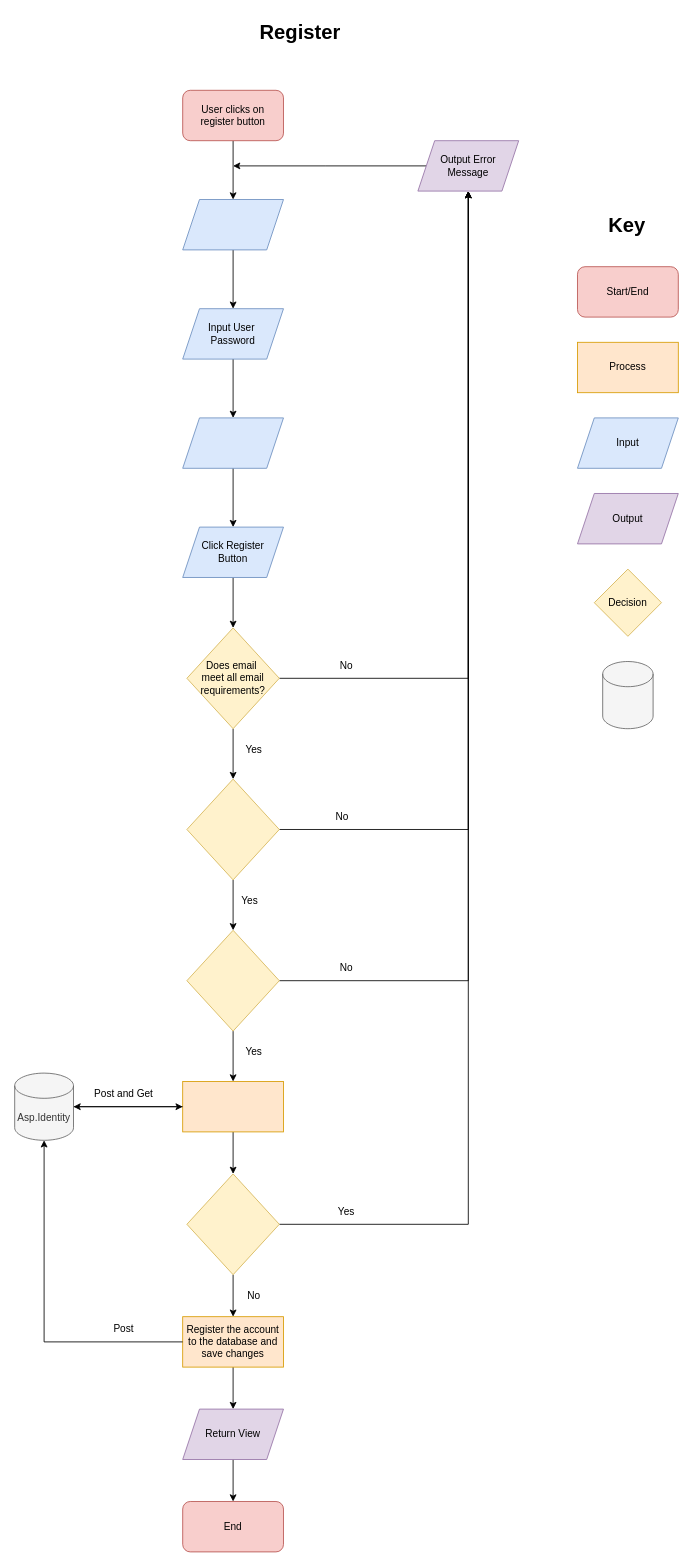
Some shapes in this 693 by 1567 pixel diagram are drawn without their labels. Each missing label, with the box of its shape:
Compare user email to all existing emails: (182, 1081, 284, 1132)
Database: (602, 661, 653, 729)
Does Email already exist?: (186, 1173, 279, 1275)
Does password meet all password requirements?: (186, 778, 279, 880)
Input Confirm Password: (182, 417, 284, 468)
Input User email: (182, 199, 284, 250)
Is the confirm password exactly the same as the password?: (186, 929, 279, 1031)
